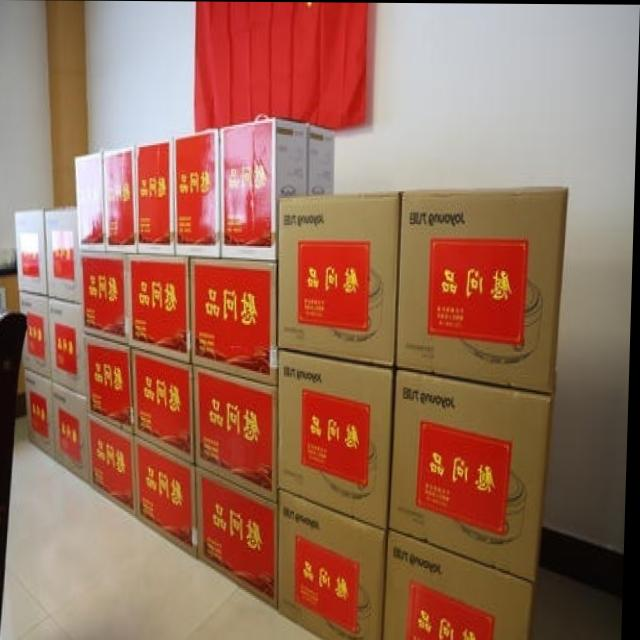box: (390, 365, 557, 582), (397, 187, 569, 394), (280, 192, 402, 365), (280, 349, 396, 525), (279, 487, 392, 640), (385, 527, 537, 639), (220, 117, 308, 258), (193, 363, 281, 502), (198, 464, 281, 607), (191, 260, 279, 384), (137, 435, 199, 558), (133, 345, 196, 466), (128, 253, 192, 362), (174, 128, 221, 255), (88, 333, 136, 432), (135, 139, 174, 256), (92, 413, 136, 515), (84, 250, 129, 344), (54, 383, 93, 484), (51, 297, 89, 398), (45, 209, 85, 303), (104, 144, 136, 252), (75, 151, 107, 250), (15, 209, 52, 293), (26, 367, 59, 460), (21, 292, 52, 374), (308, 125, 336, 195)
